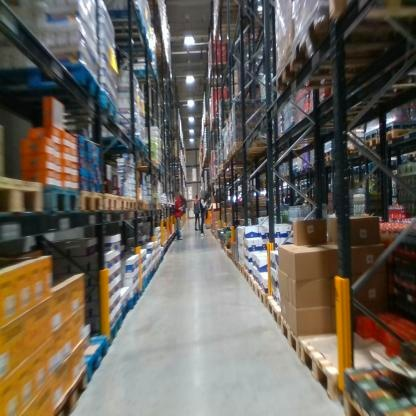pallets: (232, 259, 376, 415), (0, 185, 161, 216)
